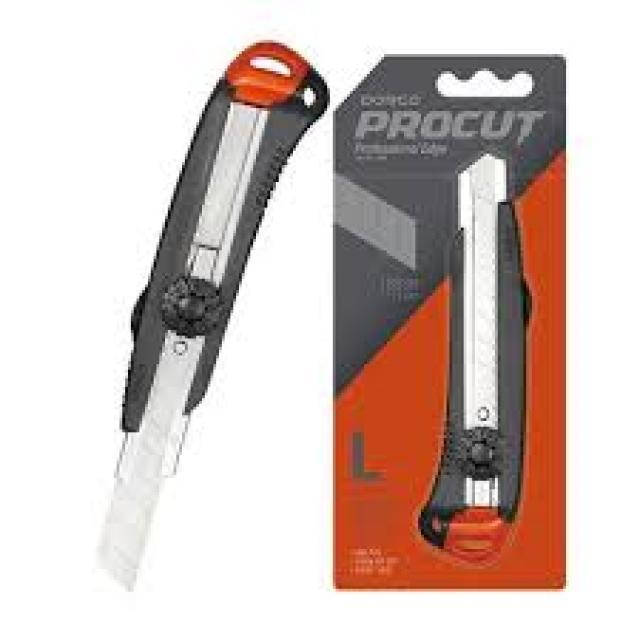cutter: (56, 22, 357, 600), (406, 148, 550, 565)
